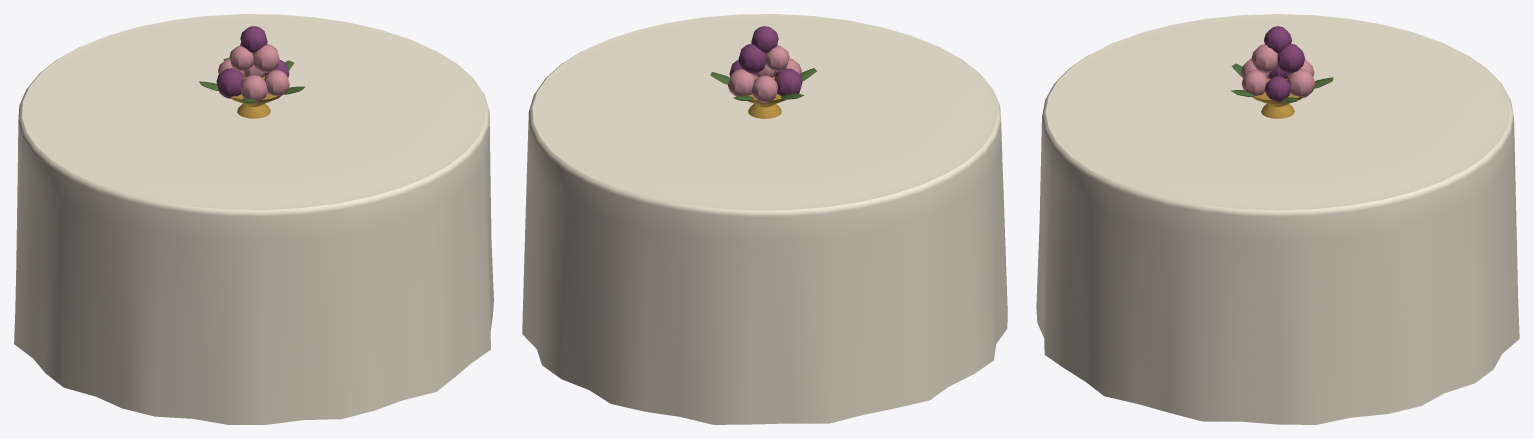
Rendered from banquet_table_round.glb.
The picture shows the model from 3 angles, left to right: view 1: azimuth 30°, elevation 25°; view 2: azimuth 150°, elevation 25°; view 3: azimuth 270°, elevation 25°; orthographic projection.
Parts seen in each view (by area): view 1: cloth, centerpiece; view 2: cloth, centerpiece; view 3: cloth, centerpiece.
Boxes of the visible parts, x1,y1,x2,y2 form: cloth: [14, 14, 493, 424]; centerpiece: [199, 26, 305, 118]; cloth: [522, 14, 1007, 424]; centerpiece: [710, 26, 816, 118]; cloth: [1036, 14, 1519, 424]; centerpiece: [1231, 26, 1333, 118].
Bounding box in the file's own units: 1.57 × 1.07 × 1.57.
